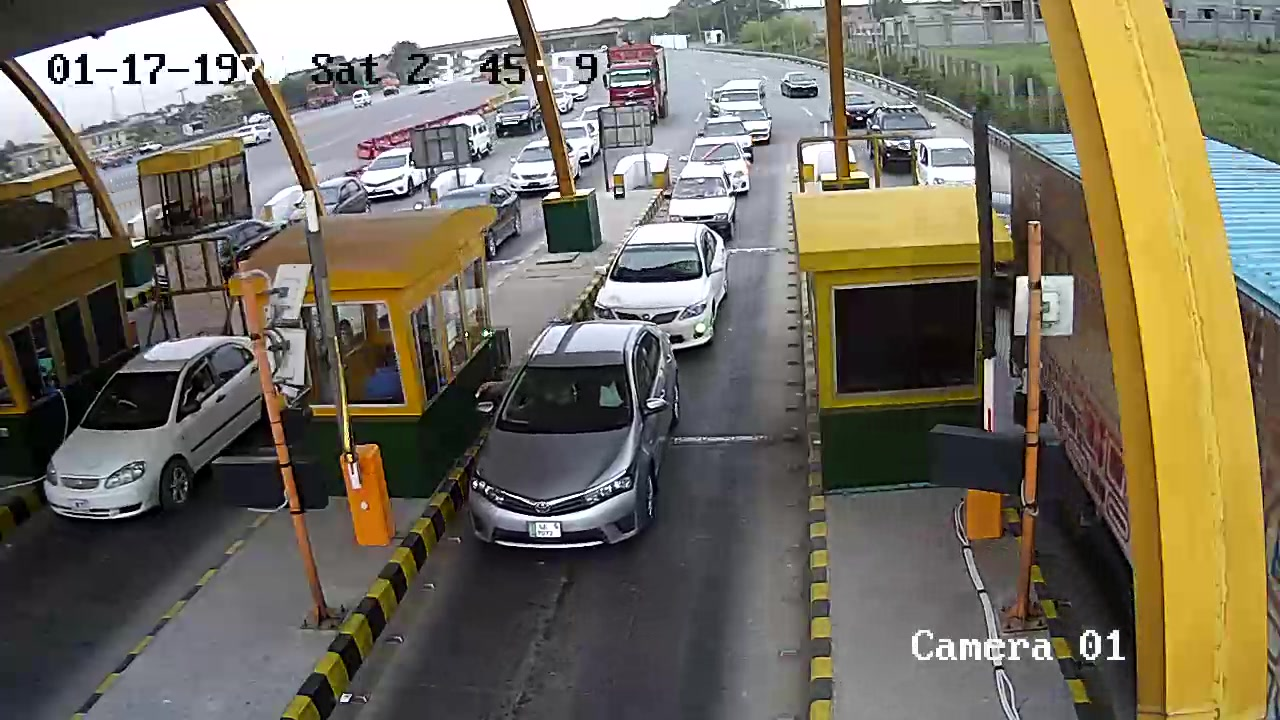F1: (462, 318, 681, 562)
